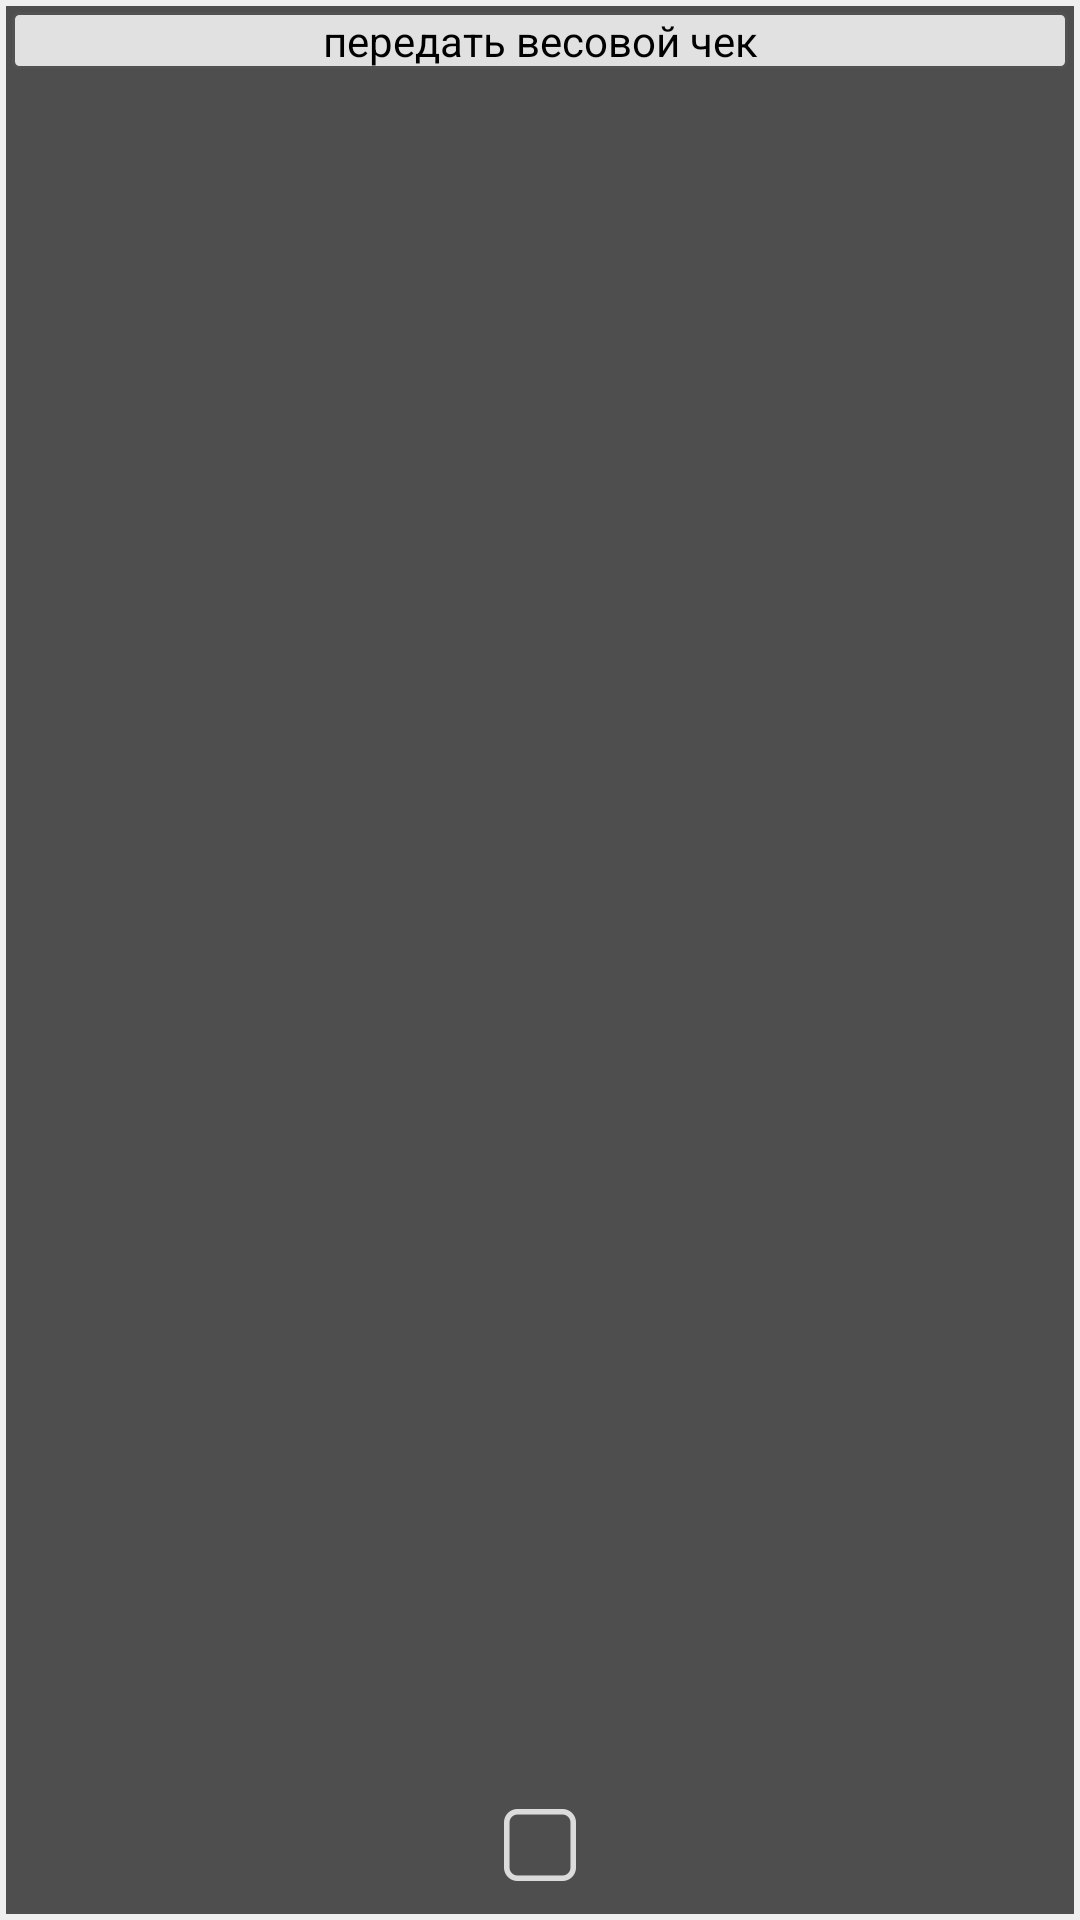

Icons on this 1080 x 1920 Android screen, each with its box as (x1, y1, x2, y2):
checkbox empty: (504, 1809, 576, 1881)
